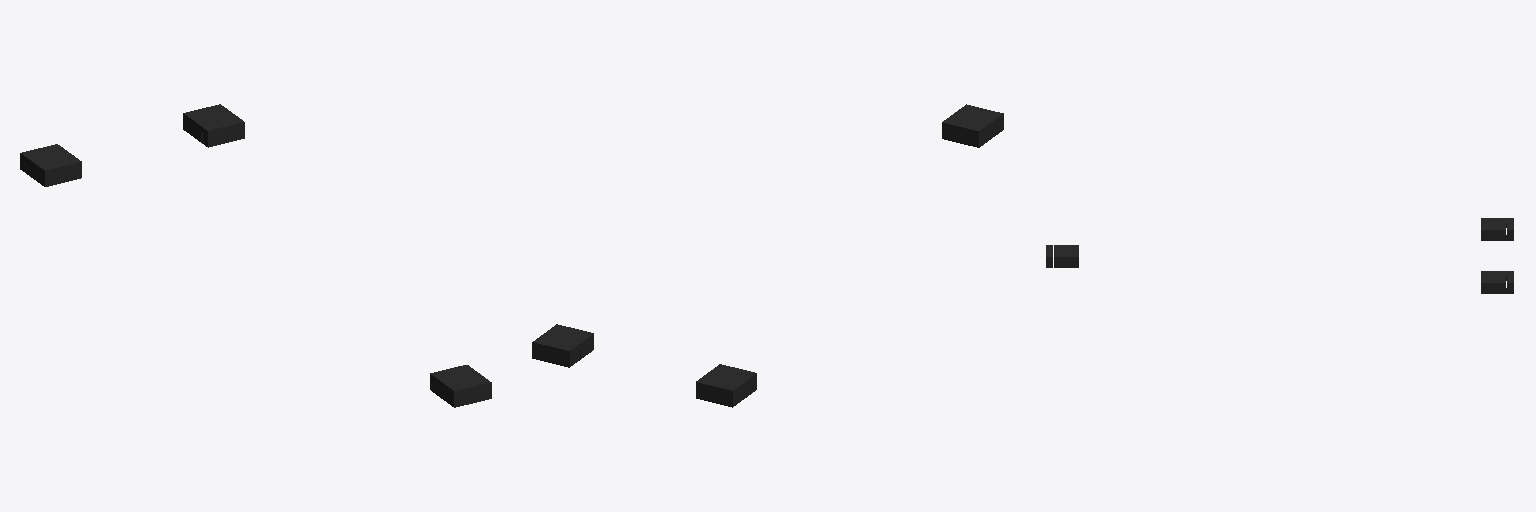
--- What the picture shows (computed from the rendered views, not written in the file) ---
Views: 3 orthographic renders of the robot side by side, from view 1: azimuth 30°, elevation 25°; view 2: azimuth 150°, elevation 25°; view 3: azimuth 270°, elevation 25°.
Robot: armh_handle — 66 links, 65 joints (65 revolute); root link base_link; default pose: every joint at zero.
Links seen in each view (by area): view 1: finger[2]/flexible_link_9, finger[0]/flexible_link_1, finger[1]/flexible_link_1; view 2: finger[2]/flexible_link_1, finger[0]/flexible_link_9, finger[1]/flexible_link_9; view 3: none.
Boxes of the visible links, bbox=[...] form: finger[2]/flexible_link_9: bbox=[452, 380, 491, 407]; finger[0]/flexible_link_1: bbox=[205, 120, 244, 147]; finger[1]/flexible_link_1: bbox=[42, 160, 81, 186]; finger[2]/flexible_link_1: bbox=[942, 120, 981, 147]; finger[0]/flexible_link_9: bbox=[532, 340, 571, 367]; finger[1]/flexible_link_9: bbox=[696, 380, 735, 407].
Size in the robot's own frame: 0.0755 by 0.232 by 0.0062 metres.
Meshes: 4 distinct files referenced, 0 mesh visuals loaded (none loaded); not drawn: 9 (reference not matched to a file when rendering).

robot.urdf — armh_handle:
<?xml version="1.0" ?>
<!-- =================================================================================== -->
<!-- |    This document was autogenerated by xacro from handle.urdf.xacro              | -->
<!-- |    EDITING THIS FILE BY HAND IS NOT RECOMMENDED                                 | -->
<!-- =================================================================================== -->
<robot name="armh_handle" xmlns:xacro="http://www.ros.org/wiki/xacro">
  <!-- roslaunch urdf_tutorial display.launch model:=handle.urdf gui:=True -->
  <!-- rosrun xacro xacro.py handle_urdf.xacro > handle.urdf -->
  <!-- tip: use measurements from solid to find the origins and length -->
  <link name="finger[0]/flexible_link_1">
    <inertial>
      <mass value="0.1"/>
      <origin xyz="0 0 0"/>
      <inertia ixx="0.001" ixy="0.0" ixz="0.0" iyy="0.001" iyz="0.0" izz="0.001"/>
    </inertial>
    <visual>
      <geometry>
        <box size=".014 0.00176 .006"/>
      </geometry>
      <origin rpy="1.57 0 0" xyz="0 0 0"/>
      <material name="darkgray">
        <color rgba="0.2 0.2 0.2 1"/>
      </material>
    </visual>
  </link>
  <link name="finger[0]/flexible_link_2">
    <inertial>
      <mass value="0.1"/>
      <origin xyz="0 0 0"/>
      <inertia ixx="0.001" ixy="0.0" ixz="0.0" iyy="0.001" iyz="0.0" izz="0.001"/>
    </inertial>
    <visual>
      <geometry>
        <box size=".014 0.00176 .006"/>
      </geometry>
      <origin rpy="1.57 0 0" xyz="0 0 0"/>
      <material name="darkgray">
        <color rgba="0.2 0.2 0.2 1"/>
      </material>
    </visual>
  </link>
  <link name="finger[0]/flexible_link_3">
    <inertial>
      <mass value="0.1"/>
      <origin xyz="0 0 0"/>
      <inertia ixx="0.001" ixy="0.0" ixz="0.0" iyy="0.001" iyz="0.0" izz="0.001"/>
    </inertial>
    <visual>
      <geometry>
        <box size=".014 0.00176 .006"/>
      </geometry>
      <origin rpy="1.57 0 0" xyz="0 0 0"/>
      <material name="darkgray">
        <color rgba="0.2 0.2 0.2 1"/>
      </material>
    </visual>
  </link>
  <link name="finger[0]/flexible_link_4">
    <inertial>
      <mass value="0.1"/>
      <origin xyz="0 0 0"/>
      <inertia ixx="0.001" ixy="0.0" ixz="0.0" iyy="0.001" iyz="0.0" izz="0.001"/>
    </inertial>
    <visual>
      <geometry>
        <box size=".014 0.00176 .006"/>
      </geometry>
      <origin rpy="1.57 0 0" xyz="0 0 0"/>
      <material name="darkgray">
        <color rgba="0.2 0.2 0.2 1"/>
      </material>
    </visual>
  </link>
  <link name="finger[0]/flexible_link_5">
    <inertial>
      <mass value="0.1"/>
      <origin xyz="0 0 0"/>
      <inertia ixx="0.001" ixy="0.0" ixz="0.0" iyy="0.001" iyz="0.0" izz="0.001"/>
    </inertial>
    <visual>
      <geometry>
        <box size=".014 0.00176 .006"/>
      </geometry>
      <origin rpy="1.57 0 0" xyz="0 0 0"/>
      <material name="darkgray">
        <color rgba="0.2 0.2 0.2 1"/>
      </material>
    </visual>
  </link>
  <link name="finger[0]/flexible_link_6">
    <inertial>
      <mass value="0.1"/>
      <origin xyz="0 0 0"/>
      <inertia ixx="0.001" ixy="0.0" ixz="0.0" iyy="0.001" iyz="0.0" izz="0.001"/>
    </inertial>
    <visual>
      <geometry>
        <box size=".014 0.00176 .006"/>
      </geometry>
      <origin rpy="1.57 0 0" xyz="0 0 0"/>
      <material name="darkgray">
        <color rgba="0.2 0.2 0.2 1"/>
      </material>
    </visual>
  </link>
  <link name="finger[0]/flexible_link_7">
    <inertial>
      <mass value="0.1"/>
      <origin xyz="0 0 0"/>
      <inertia ixx="0.001" ixy="0.0" ixz="0.0" iyy="0.001" iyz="0.0" izz="0.001"/>
    </inertial>
    <visual>
      <geometry>
        <box size=".014 0.00176 .006"/>
      </geometry>
      <origin rpy="1.57 0 0" xyz="0 0 0"/>
      <material name="darkgray">
        <color rgba="0.2 0.2 0.2 1"/>
      </material>
    </visual>
  </link>
  <link name="finger[0]/flexible_link_8">
    <inertial>
      <mass value="0.1"/>
      <origin xyz="0 0 0"/>
      <inertia ixx="0.001" ixy="0.0" ixz="0.0" iyy="0.001" iyz="0.0" izz="0.001"/>
    </inertial>
    <visual>
      <geometry>
        <box size=".014 0.00176 .006"/>
      </geometry>
      <origin rpy="1.57 0 0" xyz="0 0 0"/>
      <material name="darkgray">
        <color rgba="0.2 0.2 0.2 1"/>
      </material>
    </visual>
  </link>
  <link name="finger[0]/flexible_link_9">
    <inertial>
      <mass value="0.1"/>
      <origin xyz="0 0 0"/>
      <inertia ixx="0.001" ixy="0.0" ixz="0.0" iyy="0.001" iyz="0.0" izz="0.001"/>
    </inertial>
    <visual>
      <geometry>
        <box size=".014 0.00176 .006"/>
      </geometry>
      <origin rpy="1.57 0 0" xyz="0 0 0"/>
      <material name="darkgray">
        <color rgba="0.2 0.2 0.2 1"/>
      </material>
    </visual>
  </link>
  <joint name="finger[0]/flexible_joint_flex_from_1_to_2" type="revolute">
    <parent link="finger[0]/flexible_link_1"/>
    <child link="finger[0]/flexible_link_hidden_between_1_and_2"/>
    <origin xyz="0 0 0.00177777777778"/>
    <axis xyz="-1 0 0"/>
    <limit effort="1000.0" lower="0.0" upper="1.57" velocity="0.5"/>
  </joint>
  <link name="finger[0]/flexible_link_hidden_between_1_and_2">
    <inertial>
      <mass value="0.1"/>
      <origin xyz="0 0 0"/>
      <inertia ixx="0.001" ixy="0.0" ixz="0.0" iyy="0.001" iyz="0.0" izz="0.001"/>
    </inertial>
    <visual>
      <geometry>
        <box size="0 0 0"/>
      </geometry>
      <origin rpy="0 0 0" xyz="0 0 0"/>
    </visual>
  </link>
  <joint name="finger[0]/flexible_joint_twist_from_1_to_2" type="revolute">
    <parent link="finger[0]/flexible_link_hidden_between_1_and_2"/>
    <child link="finger[0]/flexible_link_2"/>
    <origin xyz="0 0 0"/>
    <axis xyz="0 0 1"/>
    <limit effort="1000.0" lower="0.0" upper="1.57" velocity="0.5"/>
  </joint>
  <joint name="finger[0]/flexible_joint_flex_from_2_to_3" type="revolute">
    <parent link="finger[0]/flexible_link_2"/>
    <child link="finger[0]/flexible_link_hidden_between_2_and_3"/>
    <origin xyz="0 0 0.00177777777778"/>
    <axis xyz="-1 0 0"/>
    <limit effort="1000.0" lower="0.0" upper="1.57" velocity="0.5"/>
  </joint>
  <link name="finger[0]/flexible_link_hidden_between_2_and_3">
    <inertial>
      <mass value="0.1"/>
      <origin xyz="0 0 0"/>
      <inertia ixx="0.001" ixy="0.0" ixz="0.0" iyy="0.001" iyz="0.0" izz="0.001"/>
    </inertial>
    <visual>
      <geometry>
        <box size="0 0 0"/>
      </geometry>
      <origin rpy="0 0 0" xyz="0 0 0"/>
    </visual>
  </link>
  <joint name="finger[0]/flexible_joint_twist_from_2_to_3" type="revolute">
    <parent link="finger[0]/flexible_link_hidden_between_2_and_3"/>
    <child link="finger[0]/flexible_link_3"/>
    <origin xyz="0 0 0"/>
    <axis xyz="0 0 1"/>
    <limit effort="1000.0" lower="0.0" upper="1.57" velocity="0.5"/>
  </joint>
  <joint name="finger[0]/flexible_joint_flex_from_3_to_4" type="revolute">
    <parent link="finger[0]/flexible_link_3"/>
    <child link="finger[0]/flexible_link_hidden_between_3_and_4"/>
    <origin xyz="0 0 0.00177777777778"/>
    <axis xyz="-1 0 0"/>
    <limit effort="1000.0" lower="0.0" upper="1.57" velocity="0.5"/>
  </joint>
  <link name="finger[0]/flexible_link_hidden_between_3_and_4">
    <inertial>
      <mass value="0.1"/>
      <origin xyz="0 0 0"/>
      <inertia ixx="0.001" ixy="0.0" ixz="0.0" iyy="0.001" iyz="0.0" izz="0.001"/>
    </inertial>
    <visual>
      <geometry>
        <box size="0 0 0"/>
      </geometry>
      <origin rpy="0 0 0" xyz="0 0 0"/>
    </visual>
  </link>
  <joint name="finger[0]/flexible_joint_twist_from_3_to_4" type="revolute">
    <parent link="finger[0]/flexible_link_hidden_between_3_and_4"/>
    <child link="finger[0]/flexible_link_4"/>
    <origin xyz="0 0 0"/>
    <axis xyz="0 0 1"/>
    <limit effort="1000.0" lower="0.0" upper="1.57" velocity="0.5"/>
  </joint>
  <joint name="finger[0]/flexible_joint_flex_from_4_to_5" type="revolute">
    <parent link="finger[0]/flexible_link_4"/>
    <child link="finger[0]/flexible_link_hidden_between_4_and_5"/>
    <origin xyz="0 0 0.00177777777778"/>
    <axis xyz="-1 0 0"/>
    <limit effort="1000.0" lower="0.0" upper="1.57" velocity="0.5"/>
  </joint>
  <link name="finger[0]/flexible_link_hidden_between_4_and_5">
    <inertial>
      <mass value="0.1"/>
      <origin xyz="0 0 0"/>
      <inertia ixx="0.001" ixy="0.0" ixz="0.0" iyy="0.001" iyz="0.0" izz="0.001"/>
    </inertial>
    <visual>
      <geometry>
        <box size="0 0 0"/>
      </geometry>
      <origin rpy="0 0 0" xyz="0 0 0"/>
    </visual>
  </link>
  <joint name="finger[0]/flexible_joint_twist_from_4_to_5" type="revolute">
    <parent link="finger[0]/flexible_link_hidden_between_4_and_5"/>
    <child link="finger[0]/flexible_link_5"/>
    <origin xyz="0 0 0"/>
    <axis xyz="0 0 1"/>
    <limit effort="1000.0" lower="0.0" upper="1.57" velocity="0.5"/>
  </joint>
  <joint name="finger[0]/flexible_joint_flex_from_5_to_6" type="revolute">
    <parent link="finger[0]/flexible_link_5"/>
    <child link="finger[0]/flexible_link_hidden_between_5_and_6"/>
    <origin xyz="0 0 0.00177777777778"/>
    <axis xyz="-1 0 0"/>
    <limit effort="1000.0" lower="0.0" upper="1.57" velocity="0.5"/>
  </joint>
  <link name="finger[0]/flexible_link_hidden_between_5_and_6">
    <inertial>
      <mass value="0.1"/>
      <origin xyz="0 0 0"/>
      <inertia ixx="0.001" ixy="0.0" ixz="0.0" iyy="0.001" iyz="0.0" izz="0.001"/>
    </inertial>
    <visual>
      <geometry>
        <box size="0 0 0"/>
      </geometry>
      <origin rpy="0 0 0" xyz="0 0 0"/>
    </visual>
  </link>
  <joint name="finger[0]/flexible_joint_twist_from_5_to_6" type="revolute">
    <parent link="finger[0]/flexible_link_hidden_between_5_and_6"/>
    <child link="finger[0]/flexible_link_6"/>
    <origin xyz="0 0 0"/>
    <axis xyz="0 0 1"/>
    <limit effort="1000.0" lower="0.0" upper="1.57" velocity="0.5"/>
  </joint>
  <joint name="finger[0]/flexible_joint_flex_from_6_to_7" type="revolute">
    <parent link="finger[0]/flexible_link_6"/>
    <child link="finger[0]/flexible_link_hidden_between_6_and_7"/>
    <origin xyz="0 0 0.00177777777778"/>
    <axis xyz="-1 0 0"/>
    <limit effort="1000.0" lower="0.0" upper="1.57" velocity="0.5"/>
  </joint>
  <link name="finger[0]/flexible_link_hidden_between_6_and_7">
    <inertial>
      <mass value="0.1"/>
      <origin xyz="0 0 0"/>
      <inertia ixx="0.001" ixy="0.0" ixz="0.0" iyy="0.001" iyz="0.0" izz="0.001"/>
    </inertial>
    <visual>
      <geometry>
        <box size="0 0 0"/>
      </geometry>
      <origin rpy="0 0 0" xyz="0 0 0"/>
    </visual>
  </link>
  <joint name="finger[0]/flexible_joint_twist_from_6_to_7" type="revolute">
    <parent link="finger[0]/flexible_link_hidden_between_6_and_7"/>
    <child link="finger[0]/flexible_link_7"/>
    <origin xyz="0 0 0"/>
    <axis xyz="0 0 1"/>
    <limit effort="1000.0" lower="0.0" upper="1.57" velocity="0.5"/>
  </joint>
  <joint name="finger[0]/flexible_joint_flex_from_7_to_8" type="revolute">
    <parent link="finger[0]/flexible_link_7"/>
    <child link="finger[0]/flexible_link_hidden_between_7_and_8"/>
    <origin xyz="0 0 0.00177777777778"/>
    <axis xyz="-1 0 0"/>
    <limit effort="1000.0" lower="0.0" upper="1.57" velocity="0.5"/>
  </joint>
  <link name="finger[0]/flexible_link_hidden_between_7_and_8">
    <inertial>
      <mass value="0.1"/>
      <origin xyz="0 0 0"/>
      <inertia ixx="0.001" ixy="0.0" ixz="0.0" iyy="0.001" iyz="0.0" izz="0.001"/>
    </inertial>
    <visual>
      <geometry>
        <box size="0 0 0"/>
      </geometry>
      <origin rpy="0 0 0" xyz="0 0 0"/>
    </visual>
  </link>
  <joint name="finger[0]/flexible_joint_twist_from_7_to_8" type="revolute">
    <parent link="finger[0]/flexible_link_hidden_between_7_and_8"/>
    <child link="finger[0]/flexible_link_8"/>
    <origin xyz="0 0 0"/>
    <axis xyz="0 0 1"/>
    <limit effort="1000.0" lower="0.0" upper="1.57" velocity="0.5"/>
  </joint>
  <joint name="finger[0]/flexible_joint_flex_from_8_to_9" type="revolute">
    <parent link="finger[0]/flexible_link_8"/>
    <child link="finger[0]/flexible_link_hidden_between_8_and_9"/>
    <origin xyz="0 0 0.00177777777778"/>
    <axis xyz="-1 0 0"/>
    <limit effort="1000.0" lower="0.0" upper="1.57" velocity="0.5"/>
  </joint>
  <link name="finger[0]/flexible_link_hidden_between_8_and_9">
    <inertial>
      <mass value="0.1"/>
      <origin xyz="0 0 0"/>
      <inertia ixx="0.001" ixy="0.0" ixz="0.0" iyy="0.001" iyz="0.0" izz="0.001"/>
    </inertial>
    <visual>
      <geometry>
        <box size="0 0 0"/>
      </geometry>
      <origin rpy="0 0 0" xyz="0 0 0"/>
    </visual>
  </link>
  <joint name="finger[0]/flexible_joint_twist_from_8_to_9" type="revolute">
    <parent link="finger[0]/flexible_link_hidden_between_8_and_9"/>
    <child link="finger[0]/flexible_link_9"/>
    <origin xyz="0 0 0"/>
    <axis xyz="0 0 1"/>
    <limit effort="1000.0" lower="0.0" upper="1.57" velocity="0.5"/>
  </joint>
  <joint name="finger[0]/flexible_joint_flex_from_proximal_to_1" type="revolute">
    <parent link="finger[0]/proximal_link"/>
    <child link="finger[0]/flexible_link_hidden_between_proximal_link_and_1"/>
    <origin xyz="0 0 0.062"/>
    <axis xyz="-1 0 0"/>
    <limit effort="1000.0" lower="0.0" upper="1.57" velocity="0.5"/>
  </joint>
  <link name="finger[0]/flexible_link_hidden_between_proximal_link_and_1">
    <inertial>
      <mass value="0.1"/>
      <origin xyz="0 0 0"/>
      <inertia ixx="0.001" ixy="0.0" ixz="0.0" iyy="0.001" iyz="0.0" izz="0.001"/>
    </inertial>
    <visual>
      <geometry>
        <box size="0 0 0"/>
      </geometry>
      <origin rpy="0 0 0" xyz="0 0 0"/>
    </visual>
  </link>
  <joint name="finger[0]/flexible_joint_twist_from_proximal_to_1" type="revolute">
    <parent link="finger[0]/flexible_link_hidden_between_proximal_link_and_1"/>
    <child link="finger[0]/flexible_link_1"/>
    <origin xyz="0 0 0"/>
    <axis xyz="0 0 1"/>
    <limit effort="1000.0" lower="0.0" upper="1.57" velocity="0.5"/>
  </joint>
  <joint name="finger[0]/flexible_joint_flex_from_9_to_distal" type="revolute">
    <parent link="finger[0]/flexible_link_9"/>
    <child link="finger[0]/flexible_link_hidden_between_9_and_distal_link"/>
    <origin xyz="0 0 0.00177777777778"/>
    <axis xyz="-1 0 0"/>
    <limit effort="1000.0" lower="0.0" upper="1.57" velocity="0.5"/>
  </joint>
  <link name="finger[0]/flexible_link_hidden_between_9_and_distal_link">
    <inertial>
      <mass value="0.1"/>
      <origin xyz="0 0 0"/>
      <inertia ixx="0.001" ixy="0.0" ixz="0.0" iyy="0.001" iyz="0.0" izz="0.001"/>
    </inertial>
    <visual>
      <geometry>
        <box size="0 0 0"/>
      </geometry>
      <origin rpy="0 0 0" xyz="0 0 0"/>
    </visual>
  </link>
  <joint name="finger[0]/flexible_joint_twist_from_9_to_distal" type="revolute">
    <parent link="finger[0]/flexible_link_hidden_between_9_and_distal_link"/>
    <child link="finger[0]/distal_link"/>
    <origin xyz="0 0 0"/>
    <axis xyz="0 0 1"/>
    <limit effort="1000.0" lower="0.0" upper="1.57" velocity="0.5"/>
  </joint>
  <link name="finger[1]/flexible_link_1">
    <inertial>
      <mass value="0.1"/>
      <origin xyz="0 0 0"/>
      <inertia ixx="0.001" ixy="0.0" ixz="0.0" iyy="0.001" iyz="0.0" izz="0.001"/>
    </inertial>
    <visual>
      <geometry>
        <box size=".014 0.00176 .006"/>
      </geometry>
      <origin rpy="1.57 0 0" xyz="0 0 0"/>
      <material name="darkgray">
        <color rgba="0.2 0.2 0.2 1"/>
      </material>
    </visual>
  </link>
  <link name="finger[1]/flexible_link_2">
    <inertial>
      <mass value="0.1"/>
      <origin xyz="0 0 0"/>
      <inertia ixx="0.001" ixy="0.0" ixz="0.0" iyy="0.001" iyz="0.0" izz="0.001"/>
    </inertial>
    <visual>
      <geometry>
        <box size=".014 0.00176 .006"/>
      </geometry>
      <origin rpy="1.57 0 0" xyz="0 0 0"/>
      <material name="darkgray">
        <color rgba="0.2 0.2 0.2 1"/>
      </material>
    </visual>
  </link>
  <link name="finger[1]/flexible_link_3">
    <inertial>
      <mass value="0.1"/>
      <origin xyz="0 0 0"/>
      <inertia ixx="0.001" ixy="0.0" ixz="0.0" iyy="0.001" iyz="0.0" izz="0.001"/>
    </inertial>
    <visual>
      <geometry>
        <box size=".014 0.00176 .006"/>
      </geometry>
      <origin rpy="1.57 0 0" xyz="0 0 0"/>
      <material name="darkgray">
        <color rgba="0.2 0.2 0.2 1"/>
      </material>
    </visual>
  </link>
  <link name="finger[1]/flexible_link_4">
    <inertial>
      <mass value="0.1"/>
      <origin xyz="0 0 0"/>
      <inertia ixx="0.001" ixy="0.0" ixz="0.0" iyy="0.001" iyz="0.0" izz="0.001"/>
    </inertial>
    <visual>
      <geometry>
        <box size=".014 0.00176 .006"/>
      </geometry>
      <origin rpy="1.57 0 0" xyz="0 0 0"/>
      <material name="darkgray">
        <color rgba="0.2 0.2 0.2 1"/>
      </material>
    </visual>
  </link>
  <link name="finger[1]/flexible_link_5">
    <inertial>
      <mass value="0.1"/>
      <origin xyz="0 0 0"/>
      <inertia ixx="0.001" ixy="0.0" ixz="0.0" iyy="0.001" iyz="0.0" izz="0.001"/>
    </inertial>
    <visual>
      <geometry>
        <box size=".014 0.00176 .006"/>
      </geometry>
      <origin rpy="1.57 0 0" xyz="0 0 0"/>
      <material name="darkgray">
        <color rgba="0.2 0.2 0.2 1"/>
      </material>
    </visual>
  </link>
  <link name="finger[1]/flexible_link_6">
    <inertial>
      <mass value="0.1"/>
      <origin xyz="0 0 0"/>
      <inertia ixx="0.001" ixy="0.0" ixz="0.0" iyy="0.001" iyz="0.0" izz="0.001"/>
    </inertial>
    <visual>
      <geometry>
        <box size=".014 0.00176 .006"/>
      </geometry>
      <origin rpy="1.57 0 0" xyz="0 0 0"/>
      <material name="darkgray">
        <color rgba="0.2 0.2 0.2 1"/>
      </material>
    </visual>
  </link>
  <link name="finger[1]/flexible_link_7">
    <inertial>
      <mass value="0.1"/>
      <origin xyz="0 0 0"/>
      <inertia ixx="0.001" ixy="0.0" ixz="0.0" iyy="0.001" iyz="0.0" izz="0.001"/>
    </inertial>
    <visual>
      <geometry>
        <box size=".014 0.00176 .006"/>
      </geometry>
      <origin rpy="1.57 0 0" xyz="0 0 0"/>
      <material name="darkgray">
        <color rgba="0.2 0.2 0.2 1"/>
      </material>
    </visual>
  </link>
  <link name="finger[1]/flexible_link_8">
    <inertial>
      <mass value="0.1"/>
      <origin xyz="0 0 0"/>
      <inertia ixx="0.001" ixy="0.0" ixz="0.0" iyy="0.001" iyz="0.0" izz="0.001"/>
    </inertial>
    <visual>
      <geometry>
        <box size=".014 0.00176 .006"/>
      </geometry>
      <origin rpy="1.57 0 0" xyz="0 0 0"/>
      <material name="darkgray">
        <color rgba="0.2 0.2 0.2 1"/>
      </material>
    </visual>
  </link>
  <link name="finger[1]/flexible_link_9">
    <inertial>
      <mass value="0.1"/>
      <origin xyz="0 0 0"/>
      <inertia ixx="0.001" ixy="0.0" ixz="0.0" iyy="0.001" iyz="0.0" izz="0.001"/>
    </inertial>
    <visual>
      <geometry>
        <box size=".014 0.00176 .006"/>
      </geometry>
      <origin rpy="1.57 0 0" xyz="0 0 0"/>
      <material name="darkgray">
        <color rgba="0.2 0.2 0.2 1"/>
      </material>
    </visual>
  </link>
  <joint name="finger[1]/flexible_joint_flex_from_1_to_2" type="revolute">
    <parent link="finger[1]/flexible_link_1"/>
    <child link="finger[1]/flexible_link_hidden_between_1_and_2"/>
    <origin xyz="0 0 0.00177777777778"/>
    <axis xyz="-1 0 0"/>
    <limit effort="1000.0" lower="0.0" upper="1.57" velocity="0.5"/>
  </joint>
  <link name="finger[1]/flexible_link_hidden_between_1_and_2">
    <inertial>
      <mass value="0.1"/>
      <origin xyz="0 0 0"/>
      <inertia ixx="0.001" ixy="0.0" ixz="0.0" iyy="0.001" iyz="0.0" izz="0.001"/>
    </inertial>
    <visual>
      <geometry>
        <box size="0 0 0"/>
      </geometry>
      <origin rpy="0 0 0" xyz="0 0 0"/>
    </visual>
  </link>
  <joint name="finger[1]/flexible_joint_twist_from_1_to_2" type="revolute">
    <parent link="finger[1]/flexible_link_hidden_between_1_and_2"/>
    <child link="finger[1]/flexible_link_2"/>
    <origin xyz="0 0 0"/>
    <axis xyz="0 0 1"/>
    <limit effort="1000.0" lower="0.0" upper="1.57" velocity="0.5"/>
  </joint>
  <joint name="finger[1]/flexible_joint_flex_from_2_to_3" type="revolute">
    <parent link="finger[1]/flexible_link_2"/>
    <child link="finger[1]/flexible_link_hidden_between_2_and_3"/>
    <origin xyz="0 0 0.00177777777778"/>
    <axis xyz="-1 0 0"/>
    <limit effort="1000.0" lower="0.0" upper="1.57" velocity="0.5"/>
  </joint>
  <link name="finger[1]/flexible_link_hidden_between_2_and_3">
    <inertial>
      <mass value="0.1"/>
      <origin xyz="0 0 0"/>
      <inertia ixx="0.001" ixy="0.0" ixz="0.0" iyy="0.001" iyz="0.0" izz="0.001"/>
    </inertial>
    <visual>
      <geometry>
        <box size="0 0 0"/>
      </geometry>
      <origin rpy="0 0 0" xyz="0 0 0"/>
    </visual>
  </link>
  <joint name="finger[1]/flexible_joint_twist_from_2_to_3" type="revolute">
    <parent link="finger[1]/flexible_link_hidden_between_2_and_3"/>
    <child link="finger[1]/flexible_link_3"/>
    <origin xyz="0 0 0"/>
    <axis xyz="0 0 1"/>
    <limit effort="1000.0" lower="0.0" upper="1.57" velocity="0.5"/>
  </joint>
  <joint name="finger[1]/flexible_joint_flex_from_3_to_4" type="revolute">
    <parent link="finger[1]/flexible_link_3"/>
    <child link="finger[1]/flexible_link_hidden_between_3_and_4"/>
    <origin xyz="0 0 0.00177777777778"/>
    <axis xyz="-1 0 0"/>
    <limit effort="1000.0" lower="0.0" upper="1.57" velocity="0.5"/>
  </joint>
  <link name="finger[1]/flexible_link_hidden_between_3_and_4">
    <inertial>
      <mass value="0.1"/>
      <origin xyz="0 0 0"/>
      <inertia ixx="0.001" ixy="0.0" ixz="0.0" iyy="0.001" iyz="0.0" izz="0.001"/>
    </inertial>
    <visual>
      <geometry>
        <box size="0 0 0"/>
      </geometry>
      <origin rpy="0 0 0" xyz="0 0 0"/>
    </visual>
  </link>
  <joint name="finger[1]/flexible_joint_twist_from_3_to_4" type="revolute">
    <parent link="finger[1]/flexible_link_hidden_between_3_and_4"/>
    <child link="finger[1]/flexible_link_4"/>
    <origin xyz="0 0 0"/>
    <axis xyz="0 0 1"/>
    <limit effort="1000.0" lower="0.0" upper="1.57" velocity="0.5"/>
  </joint>
  <joint name="finger[1]/flexible_joint_flex_from_4_to_5" type="revolute">
    <parent link="finger[1]/flexible_link_4"/>
    <child link="finger[1]/flexible_link_hidden_between_4_and_5"/>
    <origin xyz="0 0 0.00177777777778"/>
    <axis xyz="-1 0 0"/>
    <limit effort="1000.0" lower="0.0" upper="1.57" velocity="0.5"/>
  </joint>
  <link name="finger[1]/flexible_link_hidden_between_4_and_5">
    <inertial>
      <mass value="0.1"/>
      <origin xyz="0 0 0"/>
      <inertia ixx="0.001" ixy="0.0" ixz="0.0" iyy="0.001" iyz="0.0" izz="0.001"/>
    </inertial>
    <visual>
      <geometry>
        <box size="0 0 0"/>
      </geometry>
      <origin rpy="0 0 0" xyz="0 0 0"/>
    </visual>
  </link>
  <joint name="finger[1]/flexible_joint_twist_from_4_to_5" type="revolute">
    <parent link="finger[1]/flexible_link_hidden_between_4_and_5"/>
    <child link="finger[1]/flexible_link_5"/>
    <origin xyz="0 0 0"/>
    <axis xyz="0 0 1"/>
    <limit effort="1000.0" lower="0.0" upper="1.57" velocity="0.5"/>
  </joint>
  <joint name="finger[1]/flexible_joint_flex_from_5_to_6" type="revolute">
    <parent link="finger[1]/flexible_link_5"/>
    <child link="finger[1]/flexible_link_hidden_between_5_and_6"/>
    <origin xyz="0 0 0.00177777777778"/>
    <axis xyz="-1 0 0"/>
    <limit effort="1000.0" lower="0.0" upper="1.57" velocity="0.5"/>
  </joint>
  <link name="finger[1]/flexible_link_hidden_between_5_and_6">
    <inertial>
      <mass value="0.1"/>
      <origin xyz="0 0 0"/>
      <inertia ixx="0.001" ixy="0.0" ixz="0.0" iyy="0.001" iyz="0.0" izz="0.001"/>
    </inertial>
    <visual>
      <geometry>
        <box size="0 0 0"/>
      </geometry>
      <origin rpy="0 0 0" xyz="0 0 0"/>
    </visual>
  </link>
  <joint name="finger[1]/flexible_joint_twist_from_5_to_6" type="revolute">
    <parent link="finger[1]/flexible_link_hidden_between_5_and_6"/>
    <child link="finger[1]/flexible_link_6"/>
    <origin xyz="0 0 0"/>
    <axis xyz="0 0 1"/>
    <limit effort="1000.0" lower="0.0" upper="1.57" velocity="0.5"/>
  </joint>
  <joint name="finger[1]/flexible_joint_flex_from_6_to_7" type="revolute">
    <parent link="finger[1]/flexible_link_6"/>
    <child link="finger[1]/flexible_link_hidden_between_6_and_7"/>
    <origin xyz="0 0 0.00177777777778"/>
    <axis xyz="-1 0 0"/>
    <limit effort="1000.0" lower="0.0" upper="1.57" velocity="0.5"/>
  </joint>
  <link name="finger[1]/flexible_link_hidden_between_6_and_7">
    <inertial>
      <mass value="0.1"/>
      <origin xyz="0 0 0"/>
      <inertia ixx="0.001" ixy="0.0" ixz="0.0" iyy="0.001" iyz="0.0" izz="0.001"/>
    </inertial>
    <visual>
      <geometry>
        <box size="0 0 0"/>
      </geometry>
      <origin rpy="0 0 0" xyz="0 0 0"/>
    </visual>
  </link>
  <joint name="finger[1]/flexible_joint_twist_from_6_to_7" type="revolute">
    <parent link="finger[1]/flexible_link_hidden_between_6_and_7"/>
    <child link="finger[1]/flexible_link_7"/>
    <origin xyz="0 0 0"/>
    <axis xyz="0 0 1"/>
    <limit effort="1000.0" lower="0.0" upper="1.57" velocity="0.5"/>
  </joint>
  <joint name="finger[1]/flexible_joint_flex_from_7_to_8" type="revolute">
    <parent link="finger[1]/flexible_link_7"/>
    <child link="finger[1]/flexible_link_hidden_between_7_and_8"/>
    <origin xyz="0 0 0.00177777777778"/>
    <axis xyz="-1 0 0"/>
    <limit effort="1000.0" lower="0.0" upper="1.57" velocity="0.5"/>
  </joint>
  <link name="finger[1]/flexible_link_hidden_between_7_and_8">
    <inertial>
      <mass value="0.1"/>
      <origin xyz="0 0 0"/>
      <inertia ixx="0.001" ixy="0.0" ixz="0.0" iyy="0.001" iyz="0.0" izz="0.001"/>
    </inertial>
    <visual>
      <geometry>
        <box size="0 0 0"/>
      </geometry>
      <origin rpy="0 0 0" xyz="0 0 0"/>
    </visual>
  </link>
  <joint name="finger[1]/flexible_joint_twist_from_7_to_8" type="revolute">
    <parent link="finger[1]/flexible_link_hidden_between_7_and_8"/>
    <child link="finger[1]/flexible_link_8"/>
    <origin xyz="0 0 0"/>
    <axis xyz="0 0 1"/>
    <limit effort="1000.0" lower="0.0" upper="1.57" velocity="0.5"/>
  </joint>
  <joint name="finger[1]/flexible_joint_flex_from_8_to_9" type="revolute">
    <parent link="finger[1]/flexible_link_8"/>
    <child link="finger[1]/flexible_link_hidden_between_8_and_9"/>
    <origin xyz="0 0 0.00177777777778"/>
    <axis xyz="-1 0 0"/>
    <limit effort="1000.0" lower="0.0" upper="1.57" velocity="0.5"/>
  </joint>
  <link name="finger[1]/flexible_link_hidden_between_8_and_9">
    <inertial>
      <mass value="0.1"/>
      <origin xyz="0 0 0"/>
      <inertia ixx="0.001" ixy="0.0" ixz="0.0" iyy="0.001" iyz="0.0" izz="0.001"/>
    </inertial>
    <visual>
      <geometry>
        <box size="0 0 0"/>
      </geometry>
      <origin rpy="0 0 0" xyz="0 0 0"/>
    </visual>
  </link>
  <joint name="finger[1]/flexible_joint_twist_from_8_to_9" type="revolute">
    <parent link="finger[1]/flexible_link_hidden_between_8_and_9"/>
    <child link="finger[1]/flexible_link_9"/>
    <origin xyz="0 0 0"/>
    <axis xyz="0 0 1"/>
    <limit effort="1000.0" lower="0.0" upper="1.57" velocity="0.5"/>
  </joint>
  <joint name="finger[1]/flexible_joint_flex_from_proximal_to_1" type="revolute">
    <parent link="finger[1]/proximal_link"/>
    <child link="finger[1]/flexible_link_hidden_between_proximal_link_and_1"/>
    <origin xyz="0 0 0.062"/>
    <axis xyz="-1 0 0"/>
    <limit effort="1000.0" lower="0.0" upper="1.57" velocity="0.5"/>
  </joint>
  <link name="finger[1]/flexible_link_hidden_between_proximal_link_and_1">
    <inertial>
      <mass value="0.1"/>
      <origin xyz="0 0 0"/>
      <inertia ixx="0.001" ixy="0.0" ixz="0.0" iyy="0.001" iyz="0.0" izz="0.001"/>
    </inertial>
    <visual>
      <geometry>
        <box size="0 0 0"/>
      </geometry>
      <origin rpy="0 0 0" xyz="0 0 0"/>
    </visual>
  </link>
  <joint name="finger[1]/flexible_joint_twist_from_proximal_to_1" type="revolute">
    <parent link="finger[1]/flexible_link_hidden_between_proximal_link_and_1"/>
    <child link="finger[1]/flexible_link_1"/>
    <origin xyz="0 0 0"/>
    <axis xyz="0 0 1"/>
    <limit effort="1000.0" lower="0.0" upper="1.57" velocity="0.5"/>
  </joint>
  <joint name="finger[1]/flexible_joint_flex_from_9_to_distal" type="revolute">
    <parent link="finger[1]/flexible_link_9"/>
    <child link="finger[1]/flexible_link_hidden_between_9_and_distal_link"/>
    <origin xyz="0 0 0.00177777777778"/>
    <axis xyz="-1 0 0"/>
    <limit effort="1000.0" lower="0.0" upper="1.57" velocity="0.5"/>
  </joint>
  <link name="finger[1]/flexible_link_hidden_between_9_and_distal_link">
    <inertial>
      <mass value="0.1"/>
      <origin xyz="0 0 0"/>
      <inertia ixx="0.001" ixy="0.0" ixz="0.0" iyy="0.001" iyz="0.0" izz="0.001"/>
    </inertial>
    <visual>
      <geometry>
        <box size="0 0 0"/>
      </geometry>
      <origin rpy="0 0 0" xyz="0 0 0"/>
    </visual>
  </link>
  <joint name="finger[1]/flexible_joint_twist_from_9_to_distal" type="revolute">
    <parent link="finger[1]/flexible_link_hidden_between_9_and_distal_link"/>
    <child link="finger[1]/distal_link"/>
    <origin xyz="0 0 0"/>
    <axis xyz="0 0 1"/>
    <limit effort="1000.0" lower="0.0" upper="1.57" velocity="0.5"/>
  </joint>
  <link name="finger[2]/flexible_link_1">
    <inertial>
      <mass value="0.1"/>
      <origin xyz="0 0 0"/>
      <inertia ixx="0.001" ixy="0.0" ixz="0.0" iyy="0.001" iyz="0.0" izz="0.001"/>
    </inertial>
    <visual>
      <geometry>
        <box size=".014 0.00176 .006"/>
      </geometry>
      <origin rpy="1.57 0 0" xyz="0 0 0"/>
      <material name="darkgray">
        <color rgba="0.2 0.2 0.2 1"/>
      </material>
    </visual>
  </link>
  <link name="finger[2]/flexible_link_2">
    <inertial>
      <mass value="0.1"/>
      <origin xyz="0 0 0"/>
      <inertia ixx="0.001" ixy="0.0" ixz="0.0" iyy="0.001" iyz="0.0" izz="0.001"/>
    </inertial>
    <visual>
      <geometry>
        <box size=".014 0.00176 .006"/>
      </geometry>
      <origin rpy="1.57 0 0" xyz="0 0 0"/>
      <material name="darkgray">
        <color rgba="0.2 0.2 0.2 1"/>
      </material>
    </visual>
  </link>
  <link name="finger[2]/flexible_link_3">
    <inertial>
      <mass value="0.1"/>
      <origin xyz="0 0 0"/>
      <inertia ixx="0.001" ixy="0.0" ixz="0.0" iyy="0.001" iyz="0.0" izz="0.001"/>
    </inertial>
    <visual>
      <geometry>
        <box size=".014 0.00176 .006"/>
      </geometry>
      <origin rpy="1.57 0 0" xyz="0 0 0"/>
      <material name="darkgray">
        <color rgba="0.2 0.2 0.2 1"/>
      </material>
    </visual>
  </link>
  <link name="finger[2]/flexible_link_4">
    <inertial>
      <mass value="0.1"/>
      <origin xyz="0 0 0"/>
      <inertia ixx="0.001" ixy="0.0" ixz="0.0" iyy="0.001" iyz="0.0" izz="0.001"/>
    </inertial>
    <visual>
      <geometry>
        <box size=".014 0.00176 .006"/>
      </geometry>
      <origin rpy="1.57 0 0" xyz="0 0 0"/>
      <material name="darkgray">
        <color rgba="0.2 0.2 0.2 1"/>
      </material>
    </visual>
  </link>
  <link name="finger[2]/flexible_link_5">
    <inertial>
      <mass value="0.1"/>
      <origin xyz="0 0 0"/>
      <inertia ixx="0.001" ixy="0.0" ixz="0.0" iyy="0.001" iyz="0.0" izz="0.001"/>
    </inertial>
    <visual>
      <geometry>
        <box size=".014 0.00176 .006"/>
      </geometry>
      <origin rpy="1.57 0 0" xyz="0 0 0"/>
      <material name="darkgray">
        <color rgba="0.2 0.2 0.2 1"/>
      </material>
    </visual>
  </link>
  <link name="finger[2]/flexible_link_6">
    <inertial>
      <mass value="0.1"/>
      <origin xyz="0 0 0"/>
      <inertia ixx="0.001" ixy="0.0" ixz="0.0" iyy="0.001" iyz="0.0" izz="0.001"/>
    </inertial>
    <visual>
      <geometry>
        <box size=".014 0.00176 .006"/>
      </geometry>
      <origin rpy="1.57 0 0" xyz="0 0 0"/>
      <material name="darkgray">
        <color rgba="0.2 0.2 0.2 1"/>
      </material>
    </visual>
  </link>
  <link name="finger[2]/flexible_link_7">
    <inertial>
      <mass value="0.1"/>
      <origin xyz="0 0 0"/>
      <inertia ixx="0.001" ixy="0.0" ixz="0.0" iyy="0.001" iyz="0.0" izz="0.001"/>
    </inertial>
    <visual>
      <geometry>
        <box size=".014 0.00176 .006"/>
      </geometry>
      <origin rpy="1.57 0 0" xyz="0 0 0"/>
      <material name="darkgray">
        <color rgba="0.2 0.2 0.2 1"/>
      </material>
    </visual>
  </link>
  <link name="finger[2]/flexible_link_8">
    <inertial>
      <mass value="0.1"/>
      <origin xyz="0 0 0"/>
      <inertia ixx="0.001" ixy="0.0" ixz="0.0" iyy="0.001" iyz="0.0" izz="0.001"/>
    </inertial>
    <visual>
      <geometry>
        <box size=".014 0.00176 .006"/>
      </geometry>
      <origin rpy="1.57 0 0" xyz="0 0 0"/>
      <material name="darkgray">
        <color rgba="0.2 0.2 0.2 1"/>
      </material>
    </visual>
  </link>
  <link name="finger[2]/flexible_link_9">
    <inertial>
      <mass value="0.1"/>
      <origin xyz="0 0 0"/>
      <inertia ixx="0.001" ixy="0.0" ixz="0.0" iyy="0.001" iyz="0.0" izz="0.001"/>
    </inertial>
    <visual>
      <geometry>
        <box size=".014 0.00176 .006"/>
      </geometry>
      <origin rpy="1.57 0 0" xyz="0 0 0"/>
      <material name="darkgray">
        <color rgba="0.2 0.2 0.2 1"/>
      </material>
    </visual>
  </link>
  <joint name="finger[2]/flexible_joint_flex_from_1_to_2" type="revolute">
    <parent link="finger[2]/flexible_link_1"/>
    <child link="finger[2]/flexible_link_hidden_between_1_and_2"/>
    <origin xyz="0 0 0.00177777777778"/>
    <axis xyz="-1 0 0"/>
    <limit effort="1000.0" lower="0.0" upper="1.57" velocity="0.5"/>
  </joint>
  <link name="finger[2]/flexible_link_hidden_between_1_and_2">
    <inertial>
      <mass value="0.1"/>
      <origin xyz="0 0 0"/>
      <inertia ixx="0.001" ixy="0.0" ixz="0.0" iyy="0.001" iyz="0.0" izz="0.001"/>
    </inertial>
    <visual>
      <geometry>
        <box size="0 0 0"/>
      </geometry>
      <origin rpy="0 0 0" xyz="0 0 0"/>
    </visual>
  </link>
  <joint name="finger[2]/flexible_joint_twist_from_1_to_2" type="revolute">
    <parent link="finger[2]/flexible_link_hidden_between_1_and_2"/>
    <child link="finger[2]/flexible_link_2"/>
    <origin xyz="0 0 0"/>
    <axis xyz="0 0 1"/>
    <limit effort="1000.0" lower="0.0" upper="1.57" velocity="0.5"/>
  </joint>
  <joint name="finger[2]/flexible_joint_flex_from_2_to_3" type="revolute">
    <parent link="finger[2]/flexible_link_2"/>
    <child link="finger[2]/flexible_link_hidden_between_2_and_3"/>
    <origin xyz="0 0 0.00177777777778"/>
    <axis xyz="-1 0 0"/>
    <limit effort="1000.0" lower="0.0" upper="1.57" velocity="0.5"/>
  </joint>
  <link name="finger[2]/flexible_link_hidden_between_2_and_3">
    <inertial>
      <mass value="0.1"/>
      <origin xyz="0 0 0"/>
      <inertia ixx="0.001" ixy="0.0" ixz="0.0" iyy="0.001" iyz="0.0" izz="0.001"/>
    </inertial>
    <visual>
      <geometry>
        <box size="0 0 0"/>
      </geometry>
      <origin rpy="0 0 0" xyz="0 0 0"/>
    </visual>
  </link>
  <joint name="finger[2]/flexible_joint_twist_from_2_to_3" type="revolute">
    <parent link="finger[2]/flexible_link_hidden_between_2_and_3"/>
    <child link="finger[2]/flexible_link_3"/>
    <origin xyz="0 0 0"/>
    <axis xyz="0 0 1"/>
    <limit effort="1000.0" lower="0.0" upper="1.57" velocity="0.5"/>
  </joint>
  <joint name="finger[2]/flexible_joint_flex_from_3_to_4" type="revolute">
    <parent link="finger[2]/flexible_link_3"/>
    <child link="finger[2]/flexible_link_hidden_between_3_and_4"/>
    <origin xyz="0 0 0.00177777777778"/>
    <axis xyz="-1 0 0"/>
    <limit effort="1000.0" lower="0.0" upper="1.57" velocity="0.5"/>
  </joint>
  <link name="finger[2]/flexible_link_hidden_between_3_and_4">
    <inertial>
      <mass value="0.1"/>
      <origin xyz="0 0 0"/>
      <inertia ixx="0.001" ixy="0.0" ixz="0.0" iyy="0.001" iyz="0.0" izz="0.001"/>
    </inertial>
    <visual>
      <geometry>
        <box size="0 0 0"/>
      </geometry>
      <origin rpy="0 0 0" xyz="0 0 0"/>
    </visual>
  </link>
  <joint name="finger[2]/flexible_joint_twist_from_3_to_4" type="revolute">
    <parent link="finger[2]/flexible_link_hidden_between_3_and_4"/>
    <child link="finger[2]/flexible_link_4"/>
    <origin xyz="0 0 0"/>
    <axis xyz="0 0 1"/>
    <limit effort="1000.0" lower="0.0" upper="1.57" velocity="0.5"/>
  </joint>
  <joint name="finger[2]/flexible_joint_flex_from_4_to_5" type="revolute">
    <parent link="finger[2]/flexible_link_4"/>
    <child link="finger[2]/flexible_link_hidden_between_4_and_5"/>
    <origin xyz="0 0 0.00177777777778"/>
    <axis xyz="-1 0 0"/>
    <limit effort="1000.0" lower="0.0" upper="1.57" velocity="0.5"/>
  </joint>
  <link name="finger[2]/flexible_link_hidden_between_4_and_5">
    <inertial>
      <mass value="0.1"/>
      <origin xyz="0 0 0"/>
      <inertia ixx="0.001" ixy="0.0" ixz="0.0" iyy="0.001" iyz="0.0" izz="0.001"/>
    </inertial>
    <visual>
      <geometry>
        <box size="0 0 0"/>
      </geometry>
      <origin rpy="0 0 0" xyz="0 0 0"/>
    </visual>
  </link>
  <joint name="finger[2]/flexible_joint_twist_from_4_to_5" type="revolute">
    <parent link="finger[2]/flexible_link_hidden_between_4_and_5"/>
    <child link="finger[2]/flexible_link_5"/>
    <origin xyz="0 0 0"/>
    <axis xyz="0 0 1"/>
    <limit effort="1000.0" lower="0.0" upper="1.57" velocity="0.5"/>
  </joint>
  <joint name="finger[2]/flexible_joint_flex_from_5_to_6" type="revolute">
    <parent link="finger[2]/flexible_link_5"/>
    <child link="finger[2]/flexible_link_hidden_between_5_and_6"/>
    <origin xyz="0 0 0.00177777777778"/>
    <axis xyz="-1 0 0"/>
    <limit effort="1000.0" lower="0.0" upper="1.57" velocity="0.5"/>
  </joint>
  <link name="finger[2]/flexible_link_hidden_between_5_and_6">
    <inertial>
      <mass value="0.1"/>
      <origin xyz="0 0 0"/>
      <inertia ixx="0.001" ixy="0.0" ixz="0.0" iyy="0.001" iyz="0.0" izz="0.001"/>
    </inertial>
    <visual>
      <geometry>
        <box size="0 0 0"/>
      </geometry>
      <origin rpy="0 0 0" xyz="0 0 0"/>
    </visual>
  </link>
  <joint name="finger[2]/flexible_joint_twist_from_5_to_6" type="revolute">
    <parent link="finger[2]/flexible_link_hidden_between_5_and_6"/>
    <child link="finger[2]/flexible_link_6"/>
    <origin xyz="0 0 0"/>
    <axis xyz="0 0 1"/>
    <limit effort="1000.0" lower="0.0" upper="1.57" velocity="0.5"/>
  </joint>
  <joint name="finger[2]/flexible_joint_flex_from_6_to_7" type="revolute">
    <parent link="finger[2]/flexible_link_6"/>
    <child link="finger[2]/flexible_link_hidden_between_6_and_7"/>
    <origin xyz="0 0 0.00177777777778"/>
    <axis xyz="-1 0 0"/>
    <limit effort="1000.0" lower="0.0" upper="1.57" velocity="0.5"/>
  </joint>
  <link name="finger[2]/flexible_link_hidden_between_6_and_7">
    <inertial>
      <mass value="0.1"/>
      <origin xyz="0 0 0"/>
      <inertia ixx="0.001" ixy="0.0" ixz="0.0" iyy="0.001" iyz="0.0" izz="0.001"/>
    </inertial>
    <visual>
      <geometry>
        <box size="0 0 0"/>
      </geometry>
      <origin rpy="0 0 0" xyz="0 0 0"/>
    </visual>
  </link>
  <joint name="finger[2]/flexible_joint_twist_from_6_to_7" type="revolute">
    <parent link="finger[2]/flexible_link_hidden_between_6_and_7"/>
    <child link="finger[2]/flexible_link_7"/>
    <origin xyz="0 0 0"/>
    <axis xyz="0 0 1"/>
    <limit effort="1000.0" lower="0.0" upper="1.57" velocity="0.5"/>
  </joint>
  <joint name="finger[2]/flexible_joint_flex_from_7_to_8" type="revolute">
    <parent link="finger[2]/flexible_link_7"/>
    <child link="finger[2]/flexible_link_hidden_between_7_and_8"/>
    <origin xyz="0 0 0.00177777777778"/>
    <axis xyz="-1 0 0"/>
    <limit effort="1000.0" lower="0.0" upper="1.57" velocity="0.5"/>
  </joint>
  <link name="finger[2]/flexible_link_hidden_between_7_and_8">
    <inertial>
      <mass value="0.1"/>
      <origin xyz="0 0 0"/>
      <inertia ixx="0.001" ixy="0.0" ixz="0.0" iyy="0.001" iyz="0.0" izz="0.001"/>
    </inertial>
    <visual>
      <geometry>
        <box size="0 0 0"/>
      </geometry>
      <origin rpy="0 0 0" xyz="0 0 0"/>
    </visual>
  </link>
  <joint name="finger[2]/flexible_joint_twist_from_7_to_8" type="revolute">
    <parent link="finger[2]/flexible_link_hidden_between_7_and_8"/>
    <child link="finger[2]/flexible_link_8"/>
    <origin xyz="0 0 0"/>
    <axis xyz="0 0 1"/>
    <limit effort="1000.0" lower="0.0" upper="1.57" velocity="0.5"/>
  </joint>
  <joint name="finger[2]/flexible_joint_flex_from_8_to_9" type="revolute">
    <parent link="finger[2]/flexible_link_8"/>
    <child link="finger[2]/flexible_link_hidden_between_8_and_9"/>
    <origin xyz="0 0 0.00177777777778"/>
    <axis xyz="-1 0 0"/>
    <limit effort="1000.0" lower="0.0" upper="1.57" velocity="0.5"/>
  </joint>
  <link name="finger[2]/flexible_link_hidden_between_8_and_9">
    <inertial>
      <mass value="0.1"/>
      <origin xyz="0 0 0"/>
      <inertia ixx="0.001" ixy="0.0" ixz="0.0" iyy="0.001" iyz="0.0" izz="0.001"/>
    </inertial>
    <visual>
      <geometry>
        <box size="0 0 0"/>
      </geometry>
      <origin rpy="0 0 0" xyz="0 0 0"/>
    </visual>
  </link>
  <joint name="finger[2]/flexible_joint_twist_from_8_to_9" type="revolute">
    <parent link="finger[2]/flexible_link_hidden_between_8_and_9"/>
    <child link="finger[2]/flexible_link_9"/>
    <origin xyz="0 0 0"/>
    <axis xyz="0 0 1"/>
    <limit effort="1000.0" lower="0.0" upper="1.57" velocity="0.5"/>
  </joint>
  <joint name="finger[2]/flexible_joint_flex_from_proximal_to_1" type="revolute">
    <parent link="finger[2]/proximal_link"/>
    <child link="finger[2]/flexible_link_hidden_between_proximal_link_and_1"/>
    <origin xyz="0 0 0.062"/>
    <axis xyz="-1 0 0"/>
    <limit effort="1000.0" lower="0.0" upper="1.57" velocity="0.5"/>
  </joint>
  <link name="finger[2]/flexible_link_hidden_between_proximal_link_and_1">
    <inertial>
      <mass value="0.1"/>
      <origin xyz="0 0 0"/>
      <inertia ixx="0.001" ixy="0.0" ixz="0.0" iyy="0.001" iyz="0.0" izz="0.001"/>
    </inertial>
    <visual>
      <geometry>
        <box size="0 0 0"/>
      </geometry>
      <origin rpy="0 0 0" xyz="0 0 0"/>
    </visual>
  </link>
  <joint name="finger[2]/flexible_joint_twist_from_proximal_to_1" type="revolute">
    <parent link="finger[2]/flexible_link_hidden_between_proximal_link_and_1"/>
    <child link="finger[2]/flexible_link_1"/>
    <origin xyz="0 0 0"/>
    <axis xyz="0 0 1"/>
    <limit effort="1000.0" lower="0.0" upper="1.57" velocity="0.5"/>
  </joint>
  <joint name="finger[2]/flexible_joint_flex_from_9_to_distal" type="revolute">
    <parent link="finger[2]/flexible_link_9"/>
    <child link="finger[2]/flexible_link_hidden_between_9_and_distal_link"/>
    <origin xyz="0 0 0.00177777777778"/>
    <axis xyz="-1 0 0"/>
    <limit effort="1000.0" lower="0.0" upper="1.57" velocity="0.5"/>
  </joint>
  <link name="finger[2]/flexible_link_hidden_between_9_and_distal_link">
    <inertial>
      <mass value="0.1"/>
      <origin xyz="0 0 0"/>
      <inertia ixx="0.001" ixy="0.0" ixz="0.0" iyy="0.001" iyz="0.0" izz="0.001"/>
    </inertial>
    <visual>
      <geometry>
        <box size="0 0 0"/>
      </geometry>
      <origin rpy="0 0 0" xyz="0 0 0"/>
    </visual>
  </link>
  <joint name="finger[2]/flexible_joint_twist_from_9_to_distal" type="revolute">
    <parent link="finger[2]/flexible_link_hidden_between_9_and_distal_link"/>
    <child link="finger[2]/distal_link"/>
    <origin xyz="0 0 0"/>
    <axis xyz="0 0 1"/>
    <limit effort="1000.0" lower="0.0" upper="1.57" velocity="0.5"/>
  </joint>
  <link name="base_link">
    <inertial>
      <mass value="0.1"/>
      <origin xyz="0 0 0"/>
      <inertia ixx="0.001" ixy="0.0" ixz="0.0" iyy="0.001" iyz="0.0" izz="0.001"/>
    </inertial>
    <visual>
      <geometry>
        <mesh filename="package://handle_description/meshes/palm.stl"/>
      </geometry>
      <origin rpy="0 0 0" xyz="0 -0.038 -0.023"/>
      <material name="darkgray">
        <color rgba="0.2 0.2 0.2 1"/>
      </material>
    </visual>
  </link>
  <link name="finger[0]/base_rotation_link">
    <inertial>
      <mass value="0.1"/>
      <origin xyz="0 0 0"/>
      <inertia ixx="0.001" ixy="0.0" ixz="0.0" iyy="0.001" iyz="0.0" izz="0.001"/>
    </inertial>
    <visual>
      <geometry>
        <mesh filename="package://handle_description/meshes/finger_base.stl"/>
      </geometry>
      <material name="darkgray">
        <color rgba="0.2 0.2 0.2 1"/>
      </material>
      <origin rpy="1.57 0 0" xyz="0 0 0"/>
    </visual>
  </link>
  <link name="finger[0]/proximal_link">
    <inertial>
      <mass value="0.1"/>
      <origin xyz="0 0 0"/>
      <inertia ixx="0.001" ixy="0.0" ixz="0.0" iyy="0.001" iyz="0.0" izz="0.001"/>
    </inertial>
    <visual>
      <geometry>
        <mesh filename="package://handle_description/meshes/finger_proximal.stl"/>
      </geometry>
      <material name="green">
        <color rgba="0.1 0.6 0.1 1"/>
      </material>
      <origin rpy="1.57 -1.57 0" xyz="0 0 0"/>
    </visual>
  </link>
  <link name="finger[0]/distal_link">
    <inertial>
      <mass value="0.1"/>
      <origin xyz="0 0 0"/>
      <inertia ixx="0.001" ixy="0.0" ixz="0.0" iyy="0.001" iyz="0.0" izz="0.001"/>
    </inertial>
    <visual>
      <geometry>
        <mesh filename="package://handle_description/meshes/finger_distal.stl"/>
      </geometry>
      <material name="green">
        <color rgba="0.1 0.6 0.1 1"/>
      </material>
      <origin rpy="0 3.14 0" xyz="0 0 0"/>
    </visual>
  </link>
  <link name="finger[1]/base_rotation_link">
    <inertial>
      <mass value="0.1"/>
      <origin xyz="0 0 0"/>
      <inertia ixx="0.001" ixy="0.0" ixz="0.0" iyy="0.001" iyz="0.0" izz="0.001"/>
    </inertial>
    <visual>
      <geometry>
        <mesh filename="package://handle_description/meshes/finger_base.stl"/>
      </geometry>
      <material name="darkgray">
        <color rgba="0.2 0.2 0.2 1"/>
      </material>
      <origin rpy="1.57 0 0" xyz="0 0 0"/>
    </visual>
  </link>
  <link name="finger[1]/proximal_link">
    <inertial>
      <mass value="0.1"/>
      <origin xyz="0 0 0"/>
      <inertia ixx="0.001" ixy="0.0" ixz="0.0" iyy="0.001" iyz="0.0" izz="0.001"/>
    </inertial>
    <visual>
      <geometry>
        <mesh filename="package://handle_description/meshes/finger_proximal.stl"/>
      </geometry>
      <material name="green">
        <color rgba="0.1 0.6 0.1 1"/>
      </material>
      <origin rpy="1.57 -1.57 0" xyz="0 0 0"/>
    </visual>
  </link>
  <link name="finger[1]/distal_link">
    <inertial>
      <mass value="0.1"/>
      <origin xyz="0 0 0"/>
      <inertia ixx="0.001" ixy="0.0" ixz="0.0" iyy="0.001" iyz="0.0" izz="0.001"/>
    </inertial>
    <visual>
      <geometry>
        <mesh filename="package://handle_description/meshes/finger_distal.stl"/>
      </geometry>
      <material name="green">
        <color rgba="0.1 0.6 0.1 1"/>
      </material>
      <origin rpy="0 3.14 0" xyz="0 0 0"/>
    </visual>
  </link>
  <link name="finger[2]/proximal_link">
    <inertial>
      <mass value="0.1"/>
      <origin xyz="0 0 0"/>
      <inertia ixx="0.001" ixy="0.0" ixz="0.0" iyy="0.001" iyz="0.0" izz="0.001"/>
    </inertial>
    <visual>
      <geometry>
        <mesh filename="package://handle_description/meshes/finger_proximal.stl"/>
      </geometry>
      <material name="green">
        <color rgba="0.1 0.6 0.1 1"/>
      </material>
      <origin rpy="1.57 -1.57 0" xyz="0 0 0"/>
    </visual>
  </link>
  <link name="finger[2]/distal_link">
    <inertial>
      <mass value="0.1"/>
      <origin xyz="0 0 0"/>
      <inertia ixx="0.001" ixy="0.0" ixz="0.0" iyy="0.001" iyz="0.0" izz="0.001"/>
    </inertial>
    <visual>
      <geometry>
        <mesh filename="package://handle_description/meshes/finger_distal.stl"/>
      </geometry>
      <material name="green">
        <color rgba="0.1 0.6 0.1 1"/>
      </material>
      <origin rpy="0 3.14 0" xyz="0 0 0"/>
    </visual>
  </link>
  <joint name="finger[0]/joint_base_rotation" type="revolute">
    <parent link="base_link"/>
    <child link="finger[0]/base_rotation_link"/>
    <origin rpy="0 0 0" xyz="0.03075 0.038 0.069477"/>
    <axis xyz="0 0 -1"/>
    <limit effort="1000.0" lower="0.0" upper="1.57" velocity="0.5"/>
  </joint>
  <joint name="finger[0]/joint_base" type="revolute">
    <parent link="finger[0]/base_rotation_link"/>
    <child link="finger[0]/proximal_link"/>
    <origin rpy="1.57 0 -3.14" xyz="0 0 0.0135"/>
    <axis xyz="-1 0 0"/>
    <limit effort="1000.0" lower="0.0" upper="1.57" velocity="0.5"/>
  </joint>
  <joint name="finger[1]/joint_base_rotation" type="revolute">
    <parent link="base_link"/>
    <child link="finger[1]/base_rotation_link"/>
    <origin rpy="0 0 0" xyz="-0.03075 0.038 0.069477"/>
    <axis xyz="0 0 1"/>
    <limit effort="1000.0" lower="0.0" upper="1.57" velocity="0.5"/>
  </joint>
  <joint name="finger[1]/joint_base" type="revolute">
    <parent link="finger[1]/base_rotation_link"/>
    <child link="finger[1]/proximal_link"/>
    <origin rpy="1.57 0 -3.14" xyz="0 0 0.0135"/>
    <axis xyz="-1 0 0"/>
    <limit effort="1000.0" lower="0.0" upper="1.57" velocity="0.5"/>
  </joint>
  <joint name="finger[2]/joint_base" type="revolute">
    <parent link="base_link"/>
    <child link="finger[2]/proximal_link"/>
    <origin rpy="1.57 0 0" xyz="0 -0.038 0.082755"/>
    <axis xyz="-1 0 0"/>
    <limit effort="1000.0" lower="0.0" upper="1.57" velocity="0.5"/>
  </joint>
</robot>
